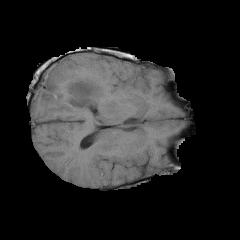glioma: (31, 59, 107, 128)
